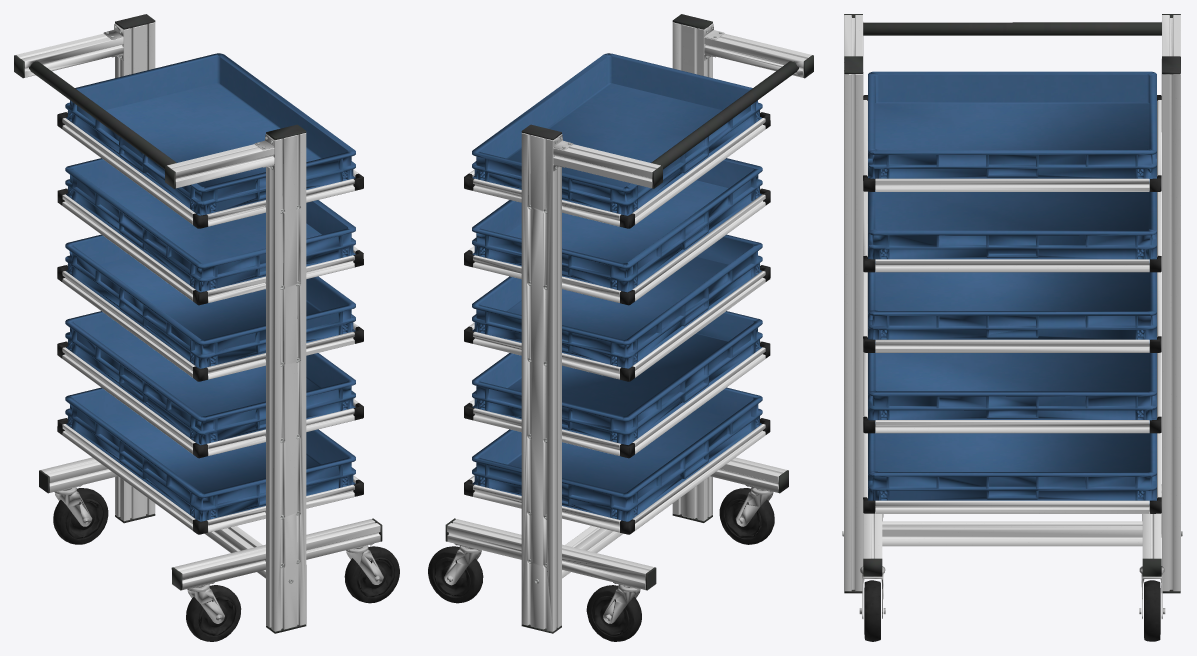
Rendered from cart_tier.glb.
3 views of the same model, side by side, from view 1: azimuth 30°, elevation 25°; view 2: azimuth 150°, elevation 25°; view 3: azimuth 270°, elevation 25° (orthographic). The views are drawn at different scales.
Parts seen in each view (by area): view 1: box_01_mesh_00, body_01_mesh_00, rim_01_mesh_00, wheel_01_mesh_00; view 2: box_01_mesh_00, body_01_mesh_00, rim_01_mesh_00, wheel_01_mesh_00; view 3: box_01_mesh_00, body_01_mesh_00, rim_01_mesh_00, wheel_01_mesh_00.
Boxes of the visible parts, <box> form: box_01_mesh_00: <box>65,53,355,521</box>; body_01_mesh_00: <box>14,14,382,633</box>; rim_01_mesh_00: <box>53,112,399,641</box>; wheel_01_mesh_00: <box>54,24,383,623</box>; box_01_mesh_00: <box>472,53,762,521</box>; body_01_mesh_00: <box>445,14,813,633</box>; rim_01_mesh_00: <box>428,112,774,641</box>; wheel_01_mesh_00: <box>444,24,773,623</box>; box_01_mesh_00: <box>868,71,1156,504</box>; body_01_mesh_00: <box>842,14,1182,593</box>; rim_01_mesh_00: <box>863,95,1161,641</box>; wheel_01_mesh_00: <box>859,484,1165,618</box>.
Bounding box in the file's own units: 0.5987 × 1.2 × 0.7058.
Materials: 6 (5 with a texture image).
